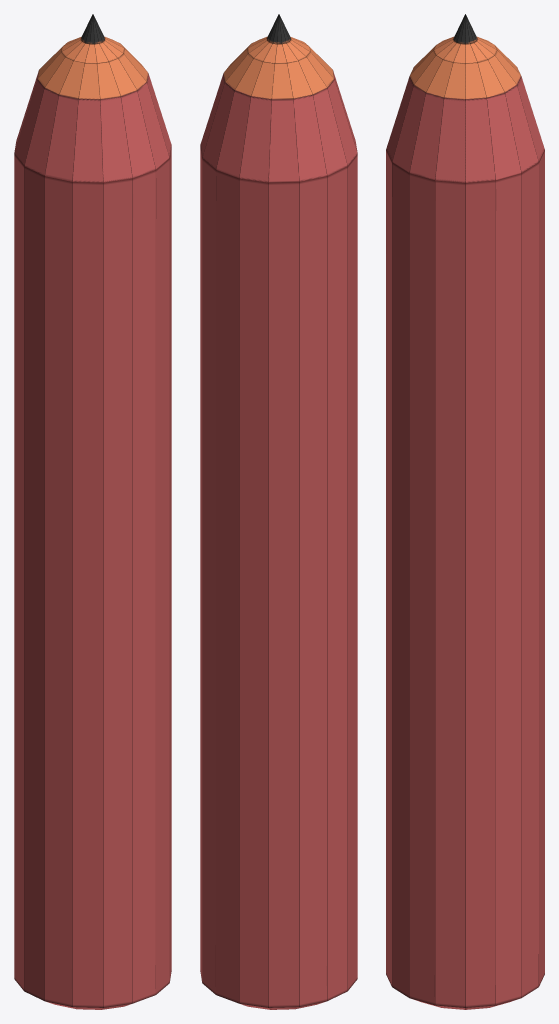
Rendered from pencil red.fbx.
3 renders of one model, left to right at view 1: azimuth 30°, elevation 25°; view 2: azimuth 150°, elevation 25°; view 3: azimuth 270°, elevation 25°, orthographic.
Parts seen in each view (by area): view 1: Pencil; view 2: Pencil; view 3: Pencil.
Boxes of the visible parts, x1,y1,x2,y2 form: Pencil: (14,14,171,1009); Pencil: (200,14,357,1009); Pencil: (386,14,544,1009).
Size of the model in its own units: 17.45 by 118 by 17.45.
